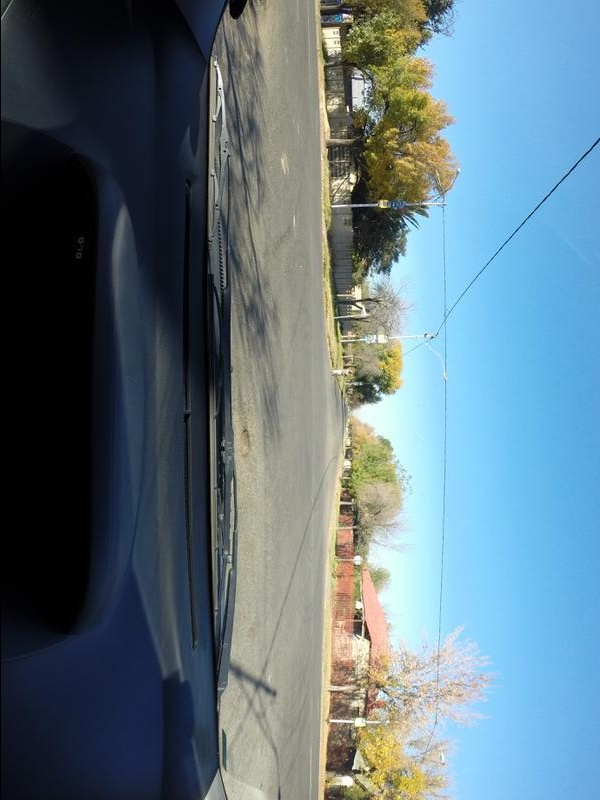pothole: (237, 427, 257, 464)
